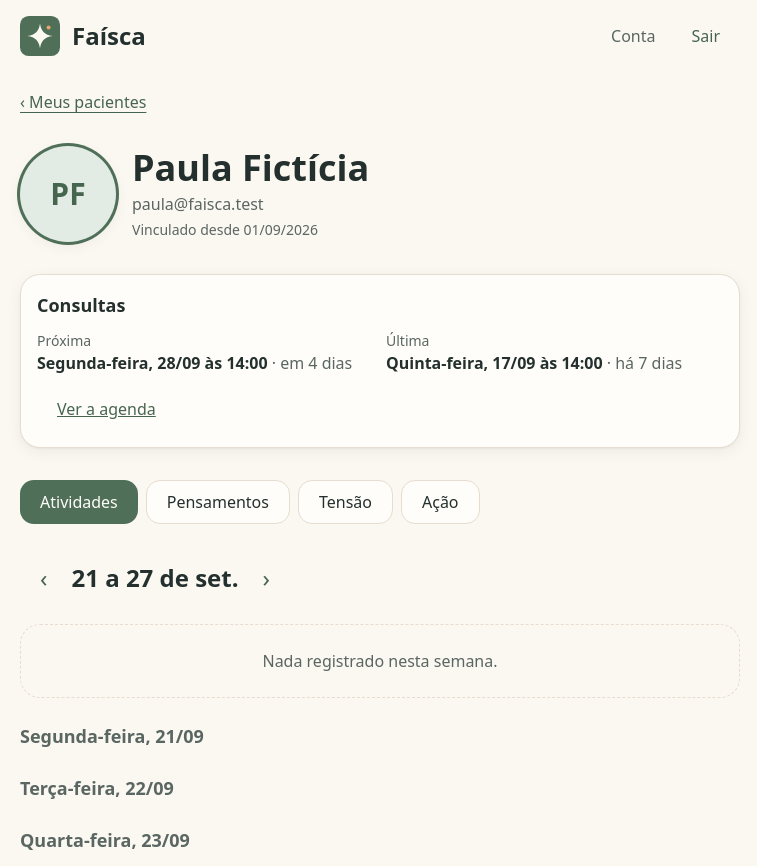
Test: /pacientes/:id › navega entre semanas pela URL
This screenshot has width=757, height=866.
Step 1. Click the button named "Semana anterior" → x=44, y=578, box [20,556,68,600]
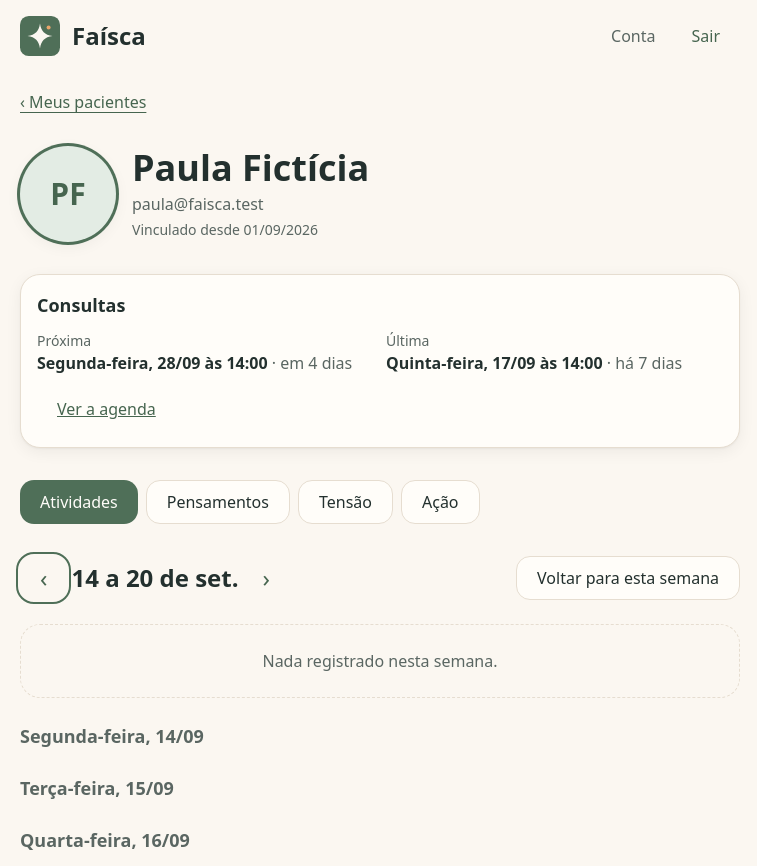
Expected: the heading "14 a 20 de set." is shown, [72,562,239,594]
